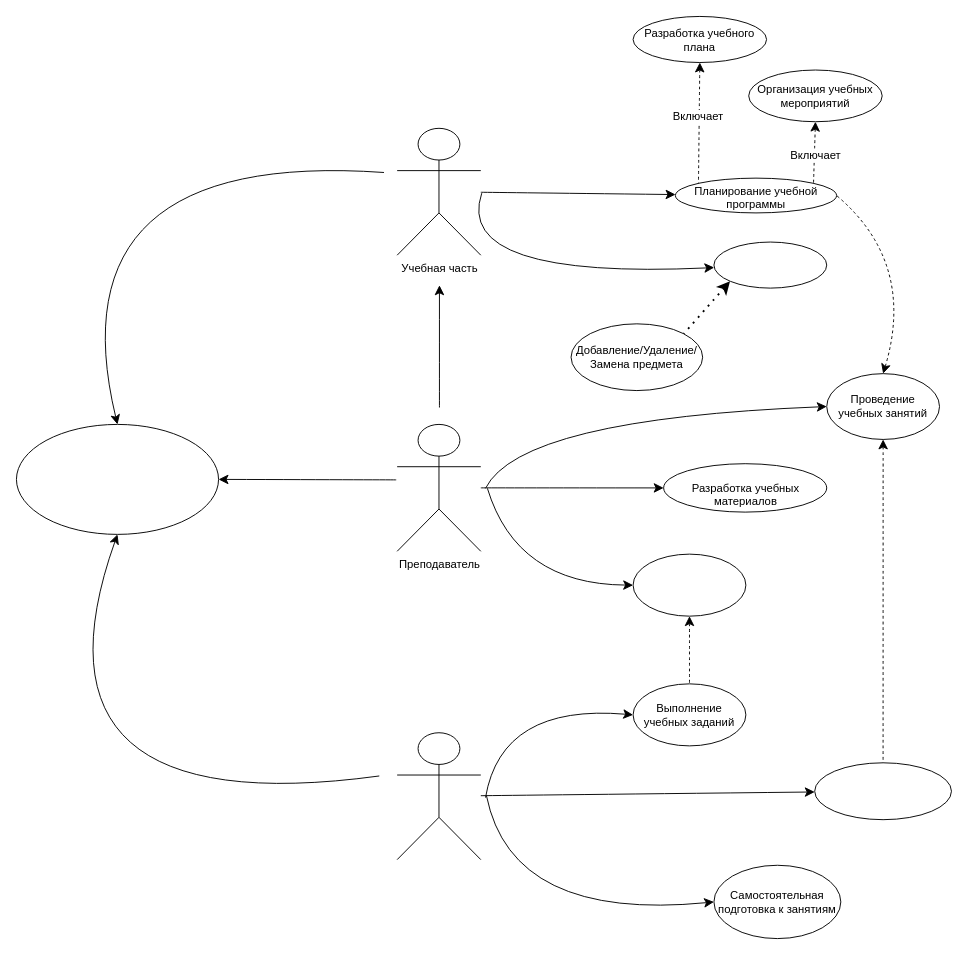
This 968x955 diagram has some shape labels left out. The shapes that lost their labels are listed below. From the top down, each one's box as (x1, y1, x2, y2) in pixels, then its label:
(713, 241, 827, 288): Разработка расписания
(16, 423, 219, 534): Запись данных в БД
(632, 553, 746, 616): Оценка студенческих достижений
(396, 732, 481, 860): Студент
(814, 762, 951, 820): Участие в учебных занятиях
